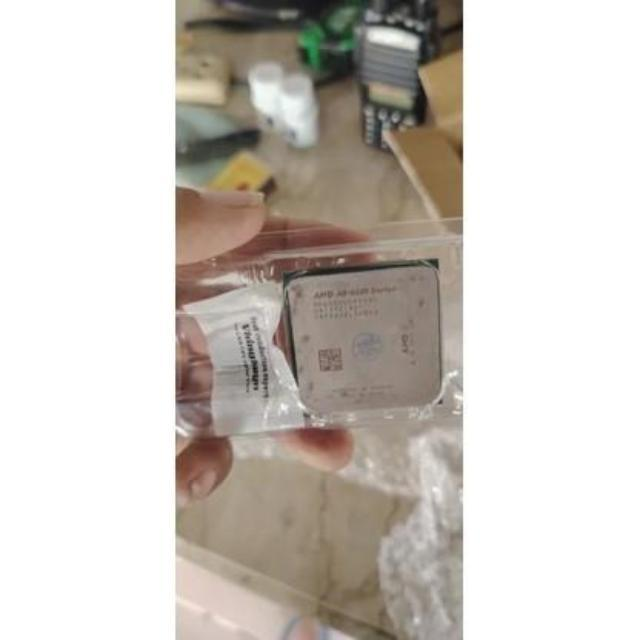CPU: (283, 264, 446, 412)
